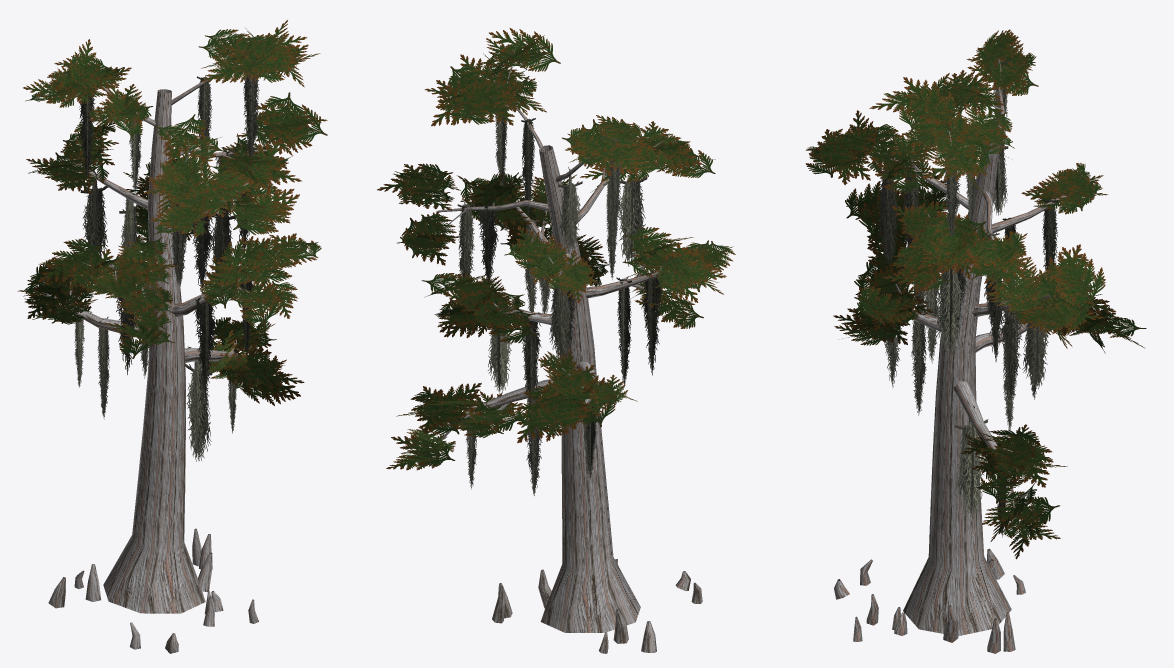
File: nature-black-swamp-cypress.glb
3 views of the same model, side by side, from view 1: azimuth 30°, elevation 25°; view 2: azimuth 150°, elevation 25°; view 3: azimuth 270°, elevation 25° (orthographic). The views are drawn at different scales.
Parts seen in each view (by area): view 1: nature-black-swamp-cypress; view 2: nature-black-swamp-cypress; view 3: nature-black-swamp-cypress.
Boxes of the visible parts, <box> form: nature-black-swamp-cypress: <box>17,20,327,653</box>; nature-black-swamp-cypress: <box>377,28,735,653</box>; nature-black-swamp-cypress: <box>805,29,1146,653</box>.
Size of the model in its own units: 7.02 by 11.64 by 6.84.
2 materials, 2 textured.
